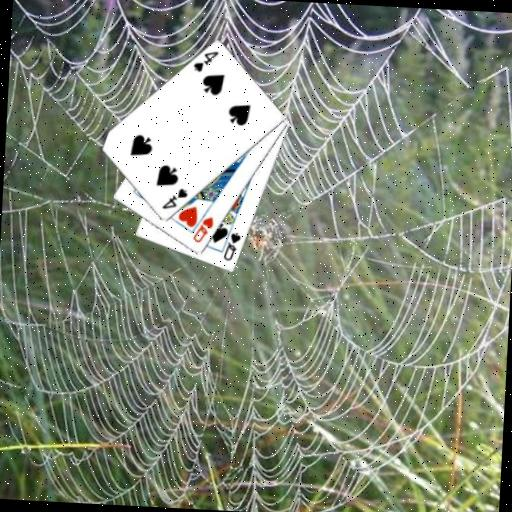4S: (159, 184, 189, 212), (190, 48, 220, 75)
QH: (190, 213, 216, 245)
QS: (221, 228, 243, 263)
